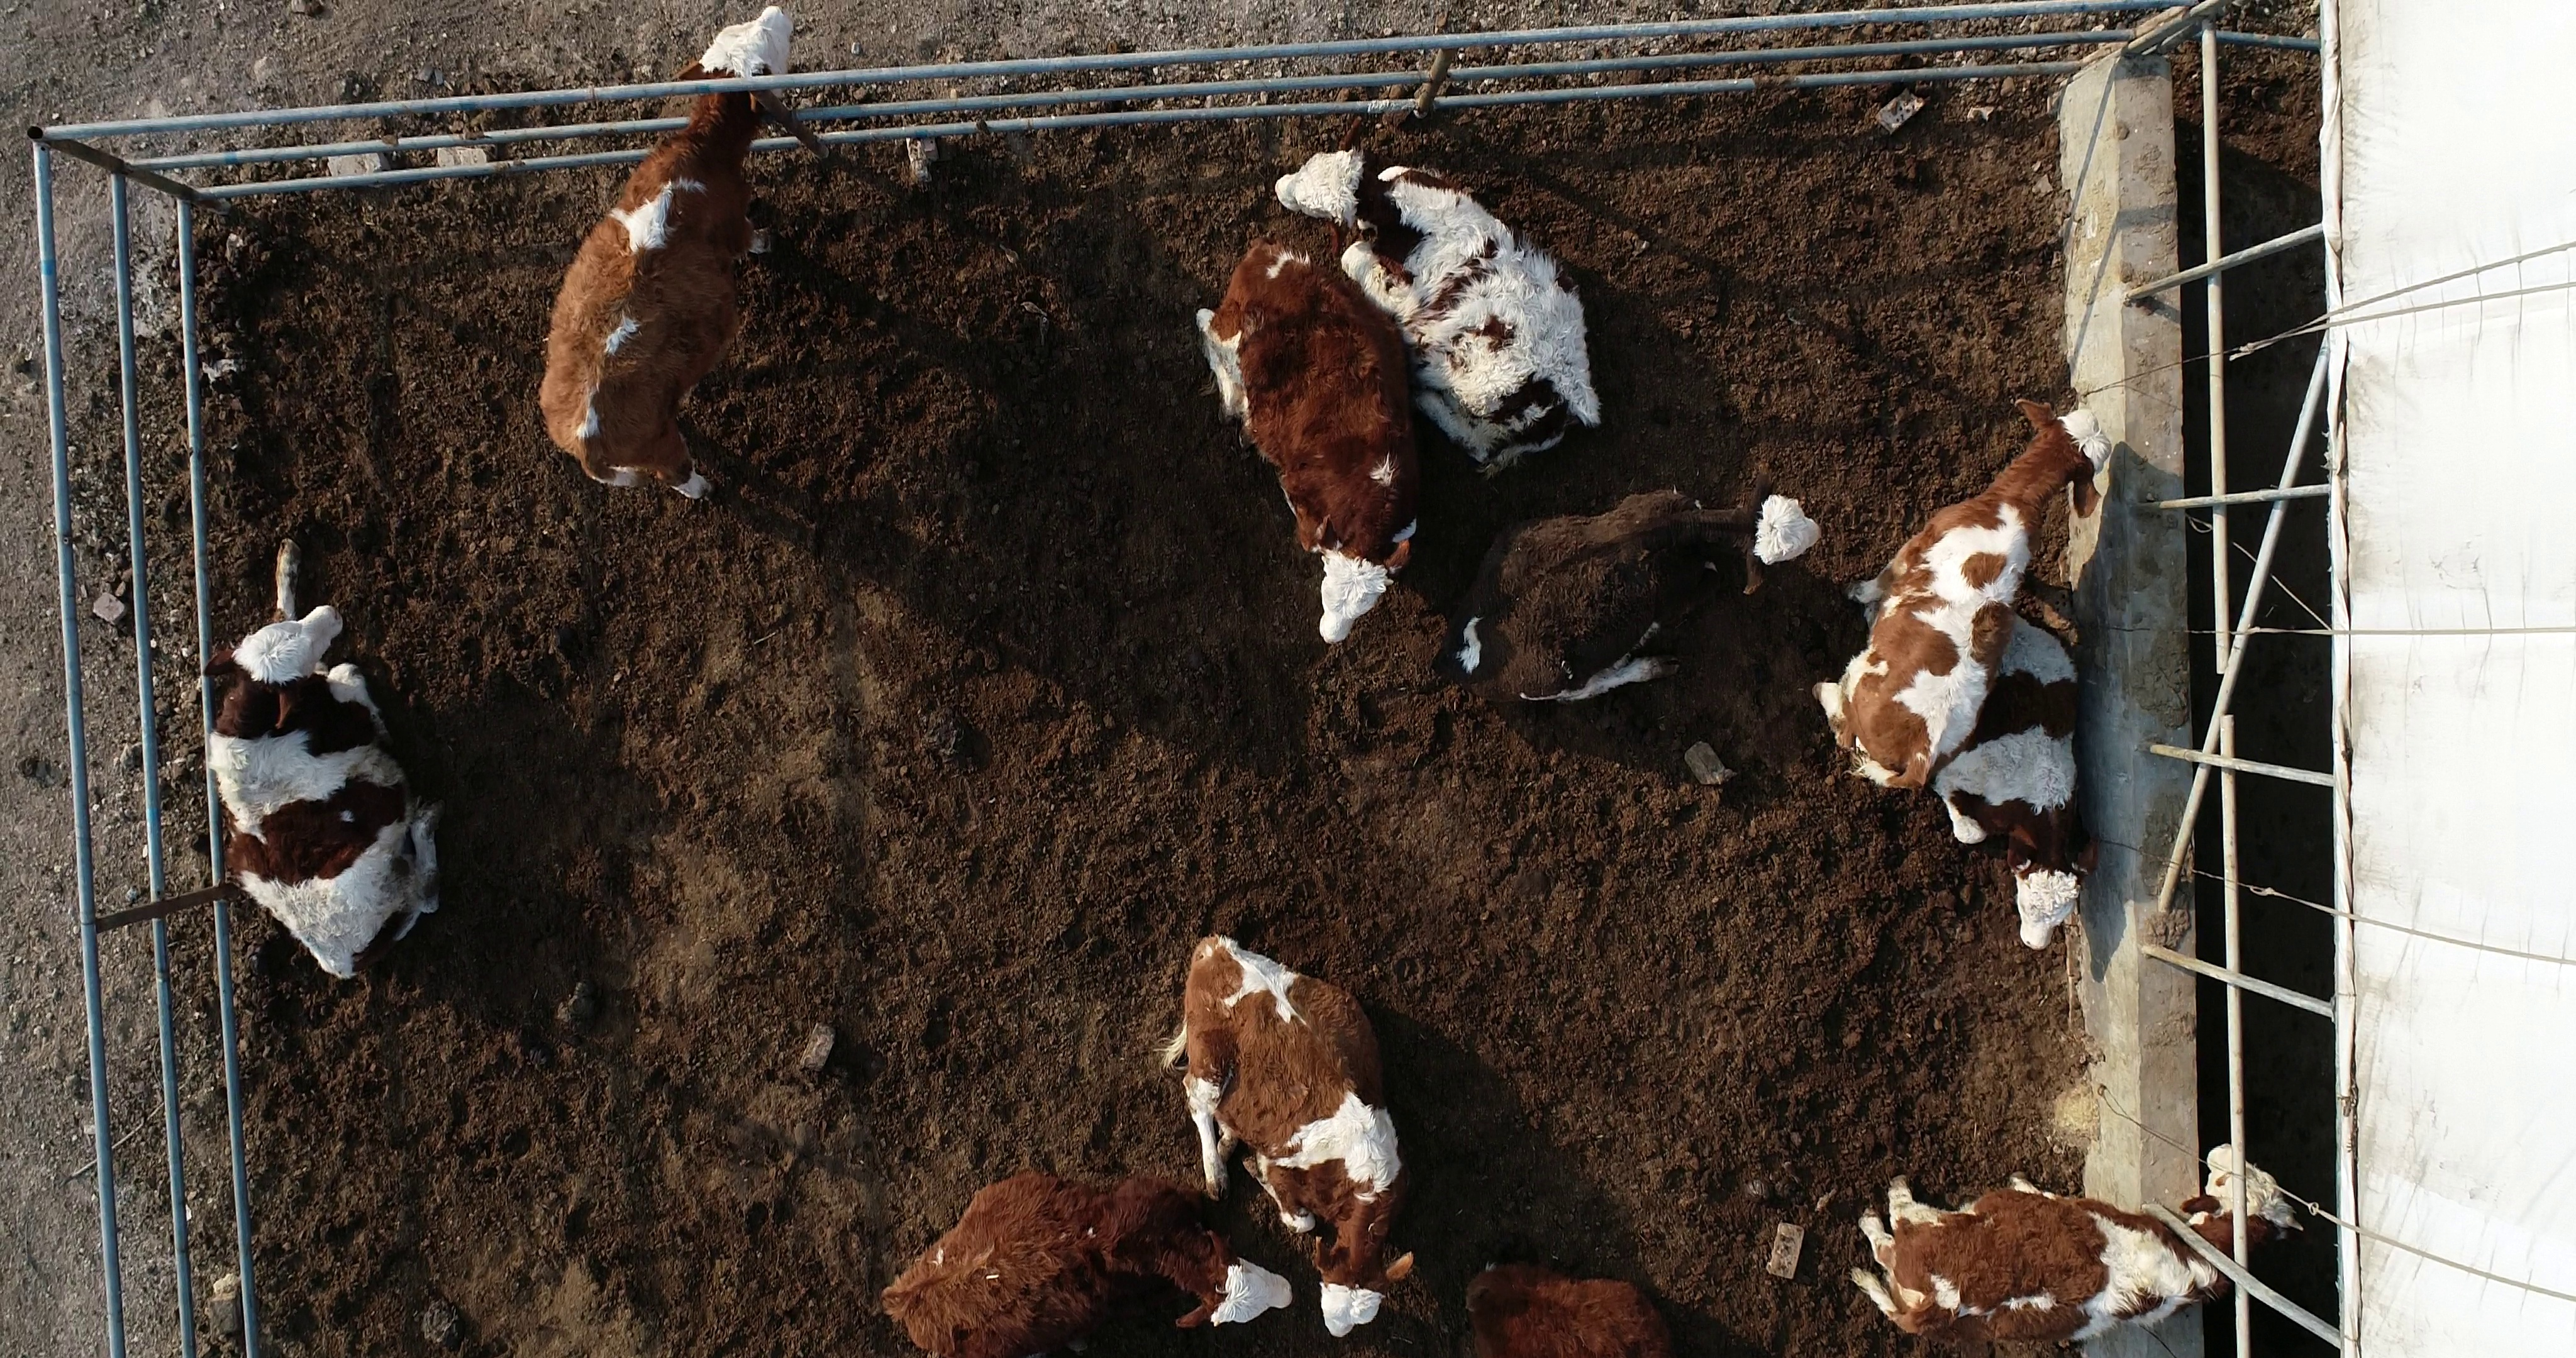cattle: (532, 0, 801, 506), (1808, 394, 2118, 796), (1274, 112, 1610, 479), (199, 528, 457, 985), (1148, 932, 1424, 1343), (1840, 1136, 2312, 1348), (1186, 233, 1424, 649), (1428, 487, 1830, 712)
